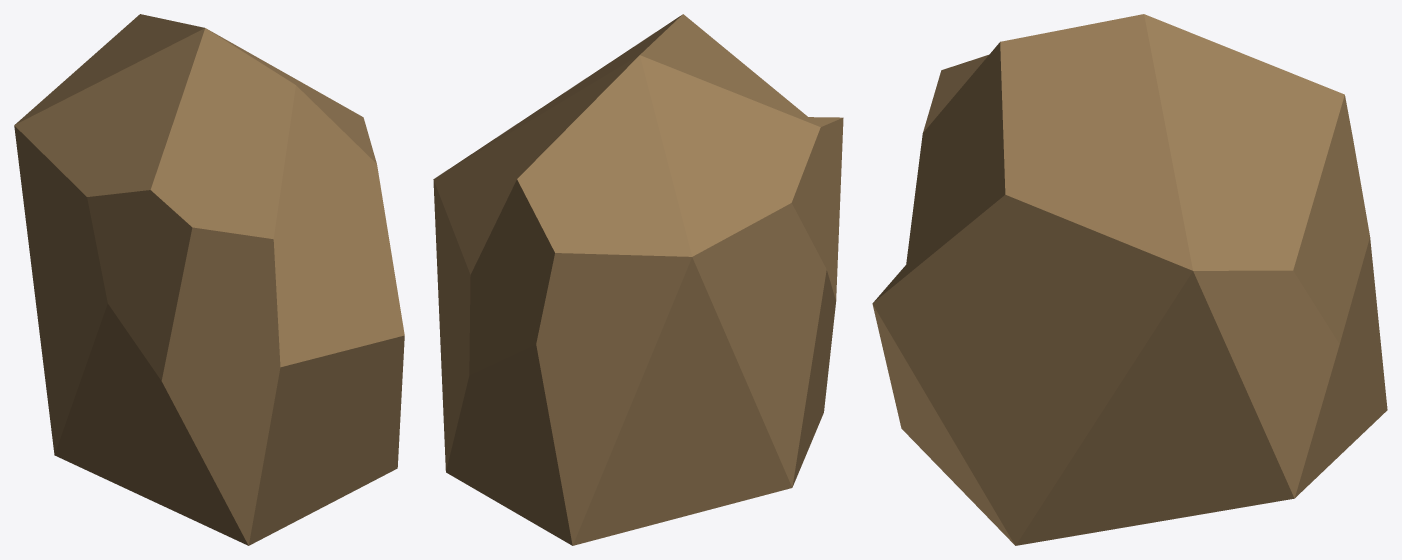
Rendered from Desert_Rock2.fbx.
3 renders of one model, left to right at view 1: azimuth 30°, elevation 25°; view 2: azimuth 150°, elevation 25°; view 3: azimuth 270°, elevation 25°, orthographic. The views are drawn at different scales.
Parts seen in each view (by area): view 1: Icosphere.001; view 2: Icosphere.001; view 3: Icosphere.001.
Boxes of the visible parts, x1,y1,x2,y2 form: Icosphere.001: (14,14,404,545); Icosphere.001: (433,14,843,545); Icosphere.001: (872,14,1387,545).
Size of the model in its own units: 270 by 334 by 338.
